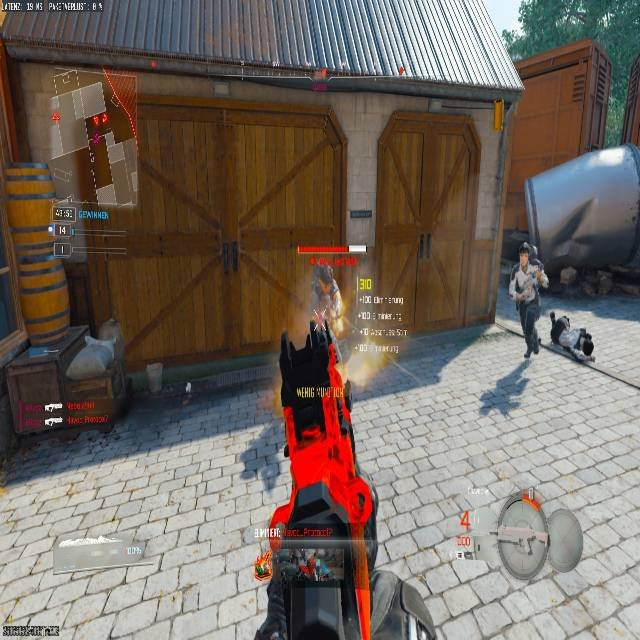head: (517, 242, 534, 266), (315, 266, 333, 286)
player: (508, 241, 550, 361), (252, 547, 287, 639), (309, 264, 338, 333)
